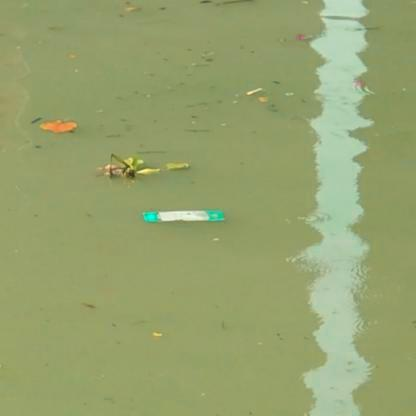Trash: (136, 203, 230, 230)
